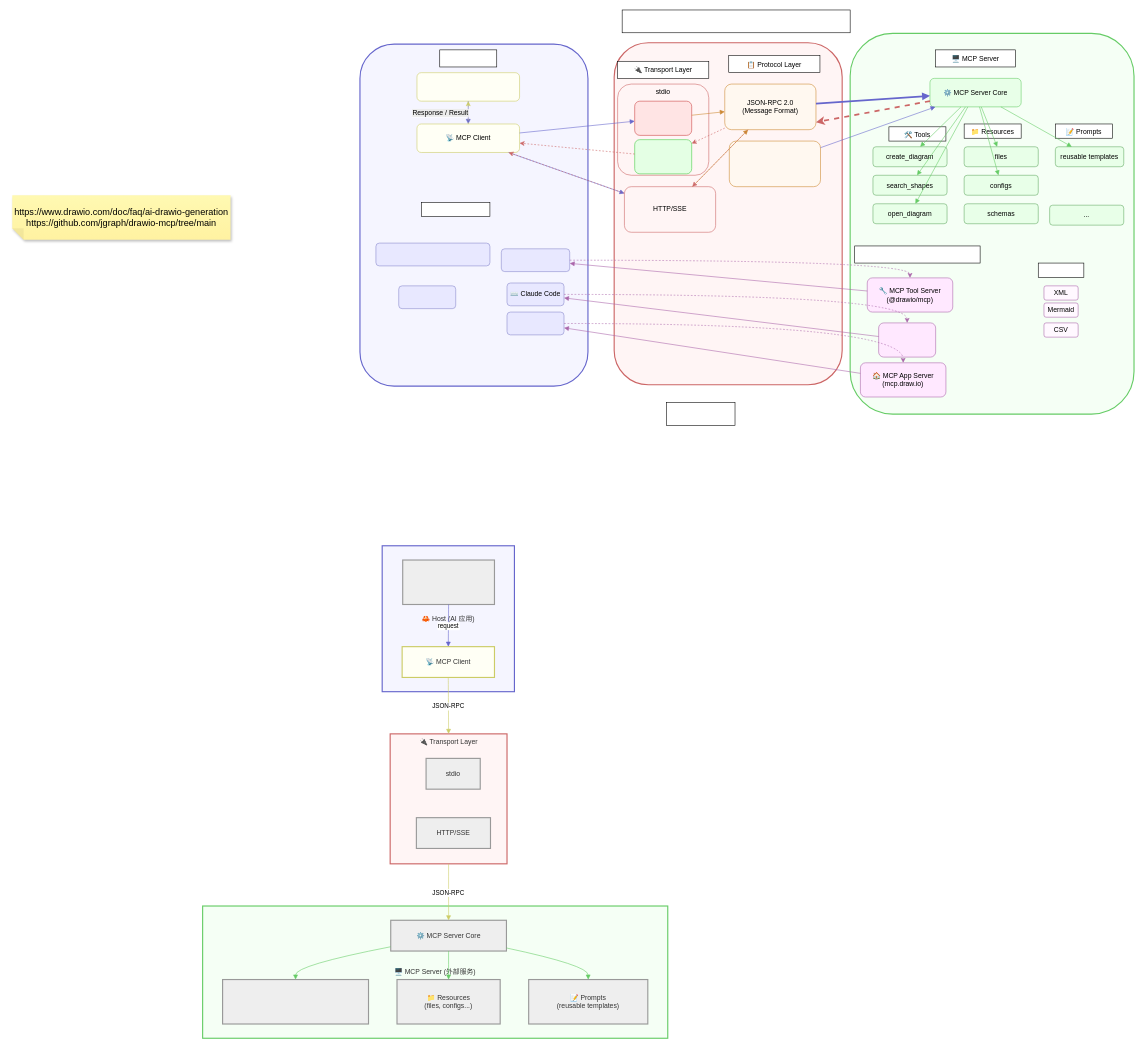
Image size: 1144x1049. Some labels were removed from this diagram. Each missing label, with the centre of its shape:
"Applications" belongs at (x=455, y=209).
"MCP (Model Context Protocol) 架构图" belongs at (x=736, y=21).
"MCP Methods tools/resources/prompts" belongs at (x=775, y=164).
"stdin (Request In)" belongs at (x=663, y=118).
"stdout (Response Out)" belongs at (x=663, y=156).
"—— Request -- - Response" belongs at (x=700, y=414).
"⌨️ Skill + CLI (Claude Code)" belongs at (x=907, y=339).
"🌐 Claude.ai" belongs at (x=535, y=323).
"🎨 draw.io MCP Implementation" belongs at (x=917, y=254).
"💻 Claude Desktop" belongs at (x=535, y=260).
"📝 VS Code" belongs at (x=427, y=297).
"📤 Output" belongs at (x=1061, y=269).
"📱 Other MCP Apps" belongs at (x=432, y=254).
"🔧 Tools (getUsers, runCommand...)" belongs at (x=295, y=1001).
"🤖 AI Host" belongs at (x=468, y=58).
"🤖 AI Model (Claude Code)" belongs at (x=448, y=582).
"🤖 AI Model (Claude)" belongs at (x=468, y=86).
